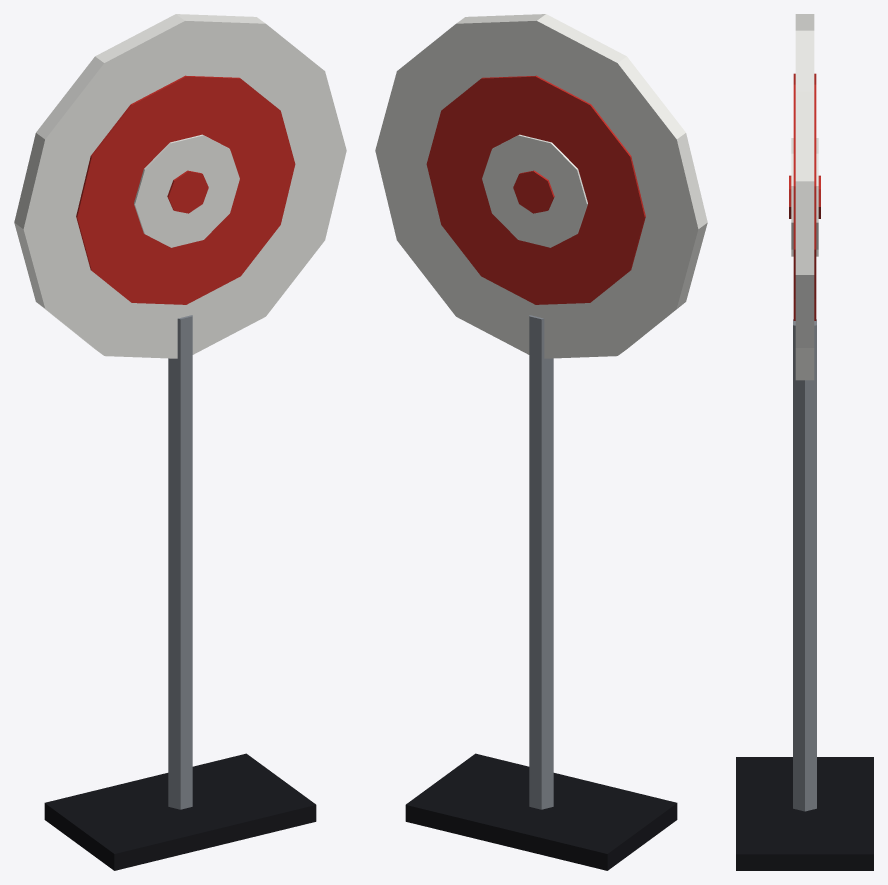
The model's file is prop_target.glb.
The picture shows the model from 3 angles, left to right: view 1: azimuth 30°, elevation 25°; view 2: azimuth 150°, elevation 25°; view 3: azimuth 270°, elevation 25°; orthographic projection.
Parts seen in each view (by area): view 1: prop_target__mesh; view 2: prop_target__mesh; view 3: prop_target__mesh.
Boxes of the visible parts, bbox=[...] form: prop_target__mesh: bbox=[14, 14, 346, 870]; prop_target__mesh: bbox=[375, 14, 707, 870]; prop_target__mesh: bbox=[736, 14, 873, 870].
Bounding box in the file's own units: 0.8 × 1.9 × 0.3.
